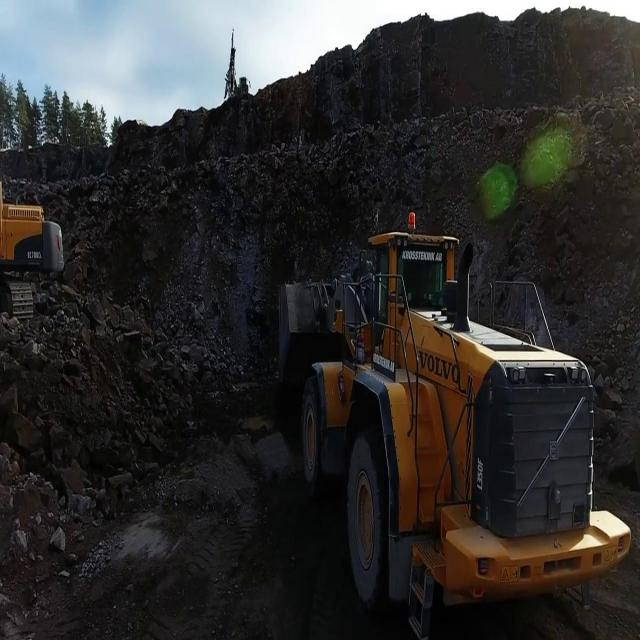Excavator: (0, 190, 65, 315)
Loader: (276, 226, 634, 639)
